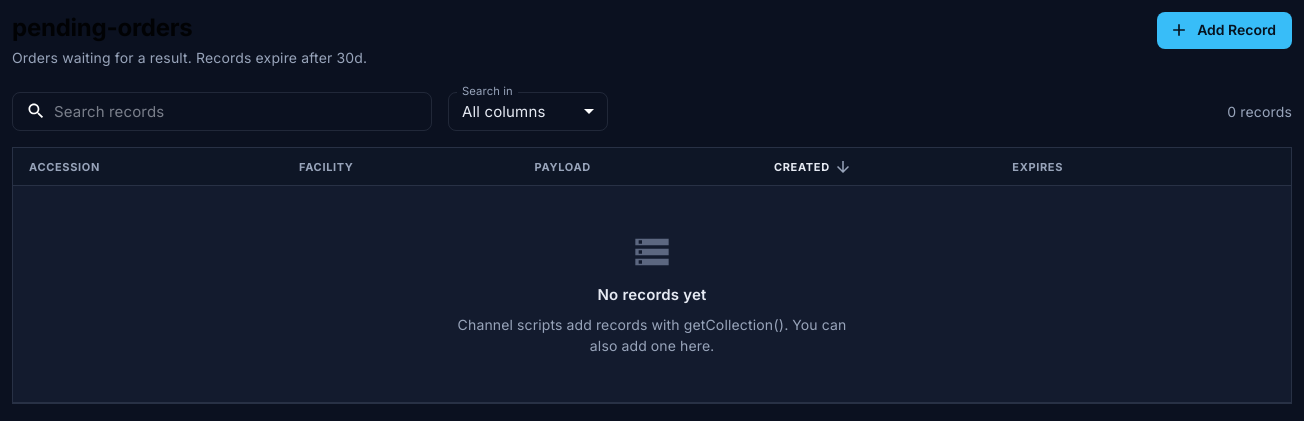
Test case: CollectionRecordsPage › says nothing matched, rather than that the collection is empty, when a search finds nothing
Expected: the heading "No records yet" is shown, 598,284 -> 706,306
In the field labelled "Search records": [243, 112] box 54,92 -> 432,131, type "zzz"
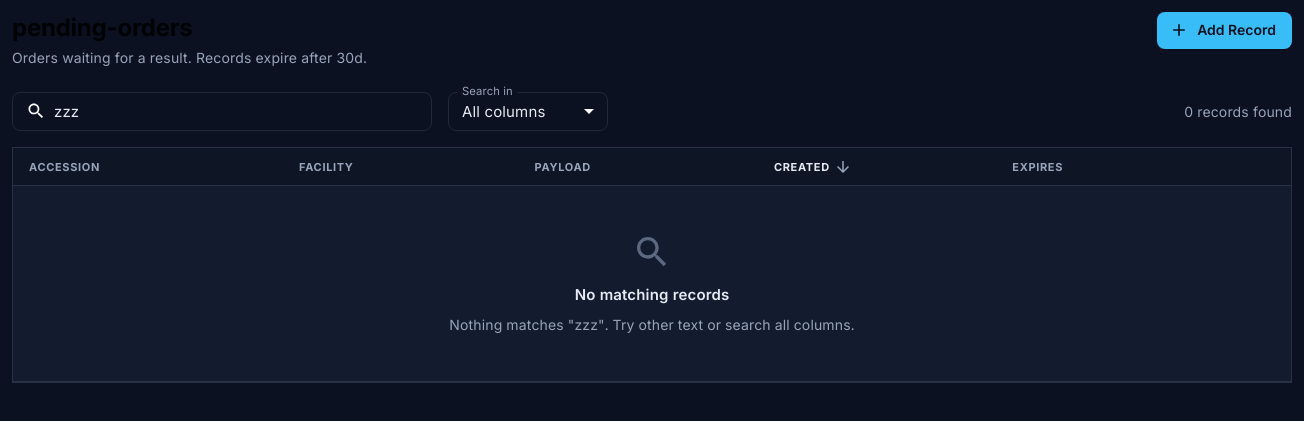
Expected: the heading "No matching records" is shown, 575,284 -> 729,306
